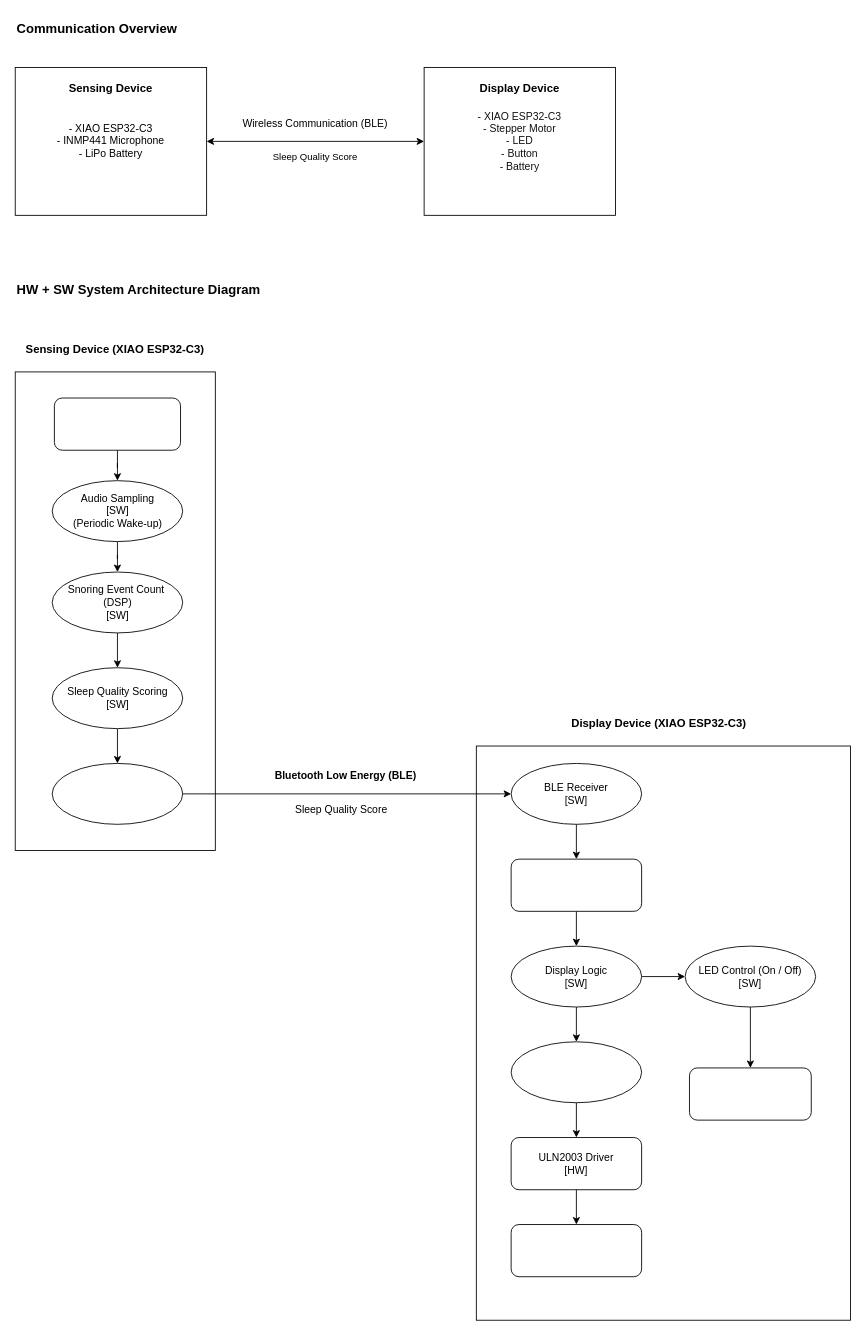
This 866x1335 diagram has some shape labels left out. The box of each missing label's shape, as (x1, y1, x2, y2) in pixels:
BLE Transmission [SW]: (51, 763, 183, 824)
Button Input [HW]: (510, 858, 642, 911)
Gauge Needle Movement [HW]: (510, 1224, 642, 1277)
LED Indicator [HW]: (689, 1067, 811, 1120)
Microphone (INMP441) [HW]: (54, 397, 181, 450)
Stepper Motor Control [SW]: (510, 1041, 642, 1103)
